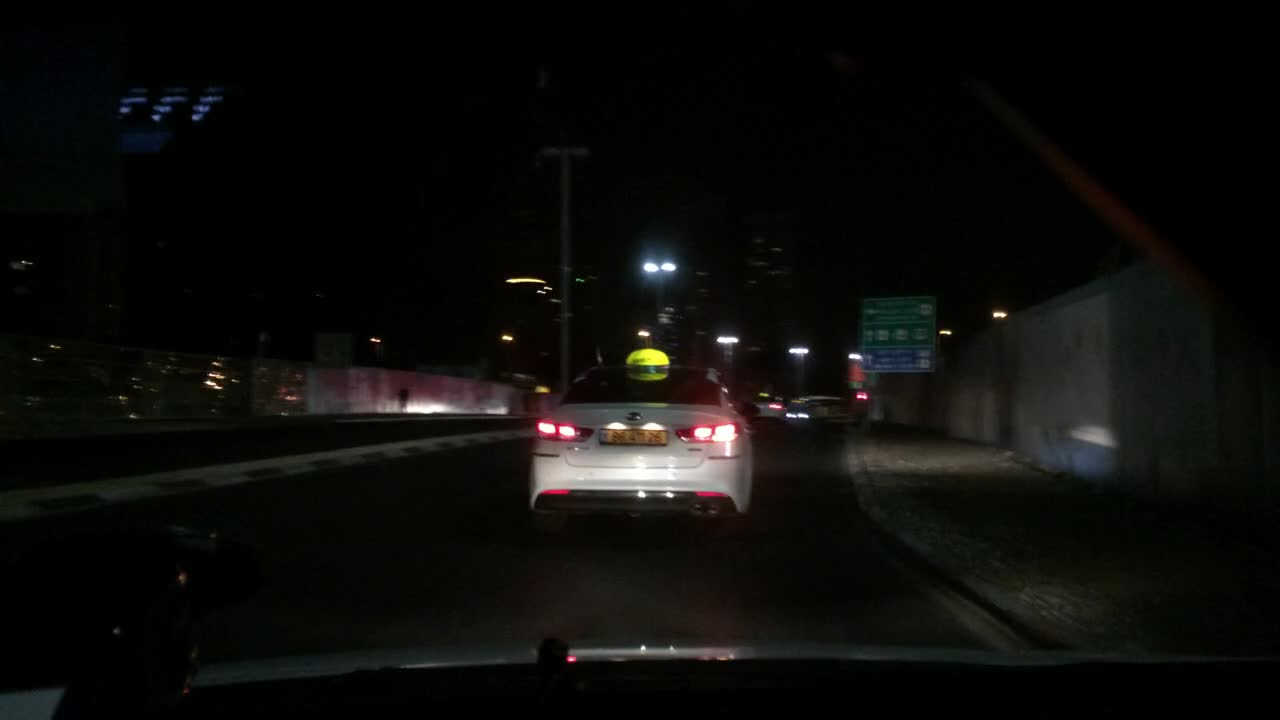car: (529, 362, 752, 551), (733, 392, 807, 422), (786, 395, 861, 423)
traffic sign: (862, 299, 932, 345), (862, 352, 938, 374), (315, 331, 348, 366)
